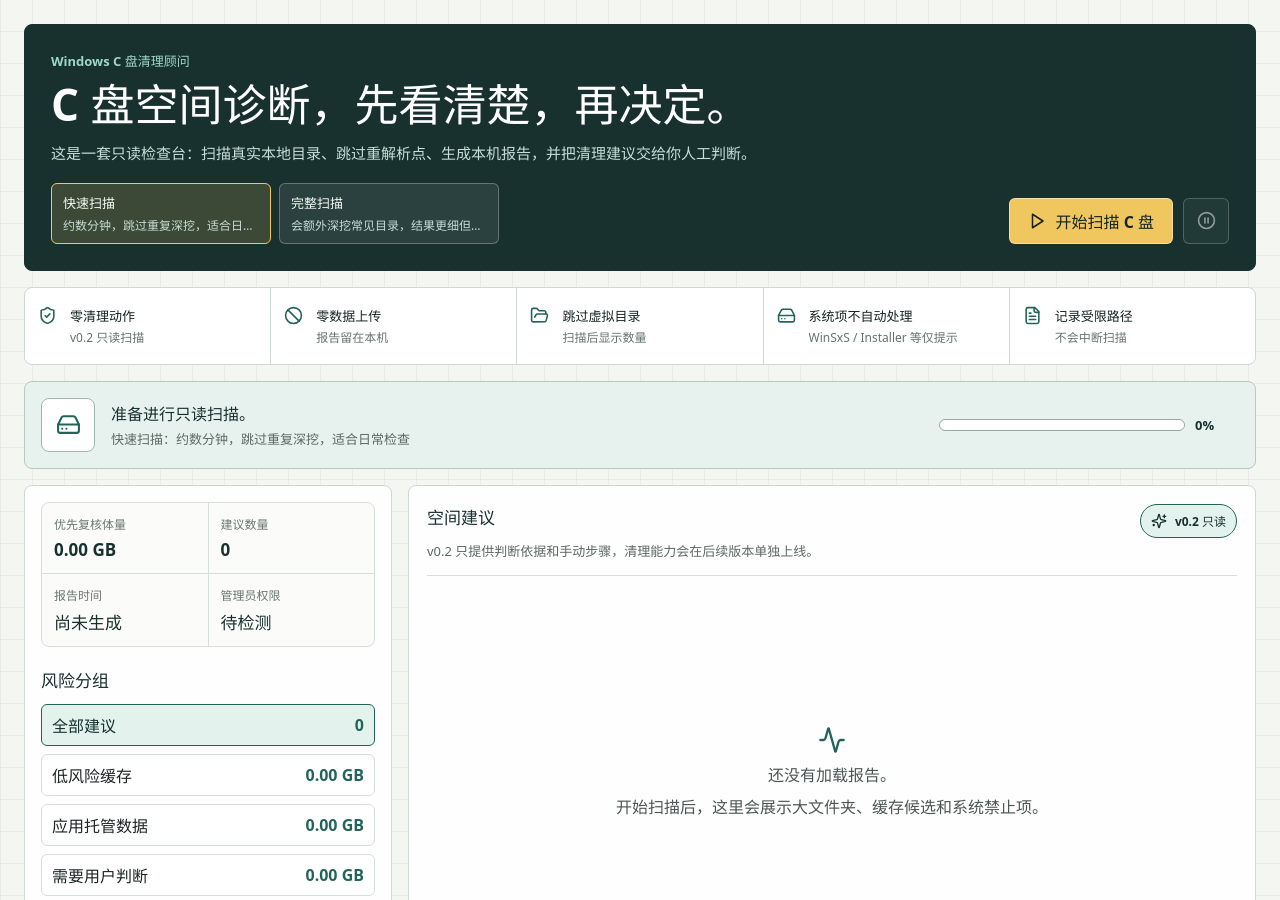
Scenario: App › applies only matching progress events for the active scan
Click the button "开始扫描 C 盘" at (1091, 221), box [1010, 198, 1173, 244]
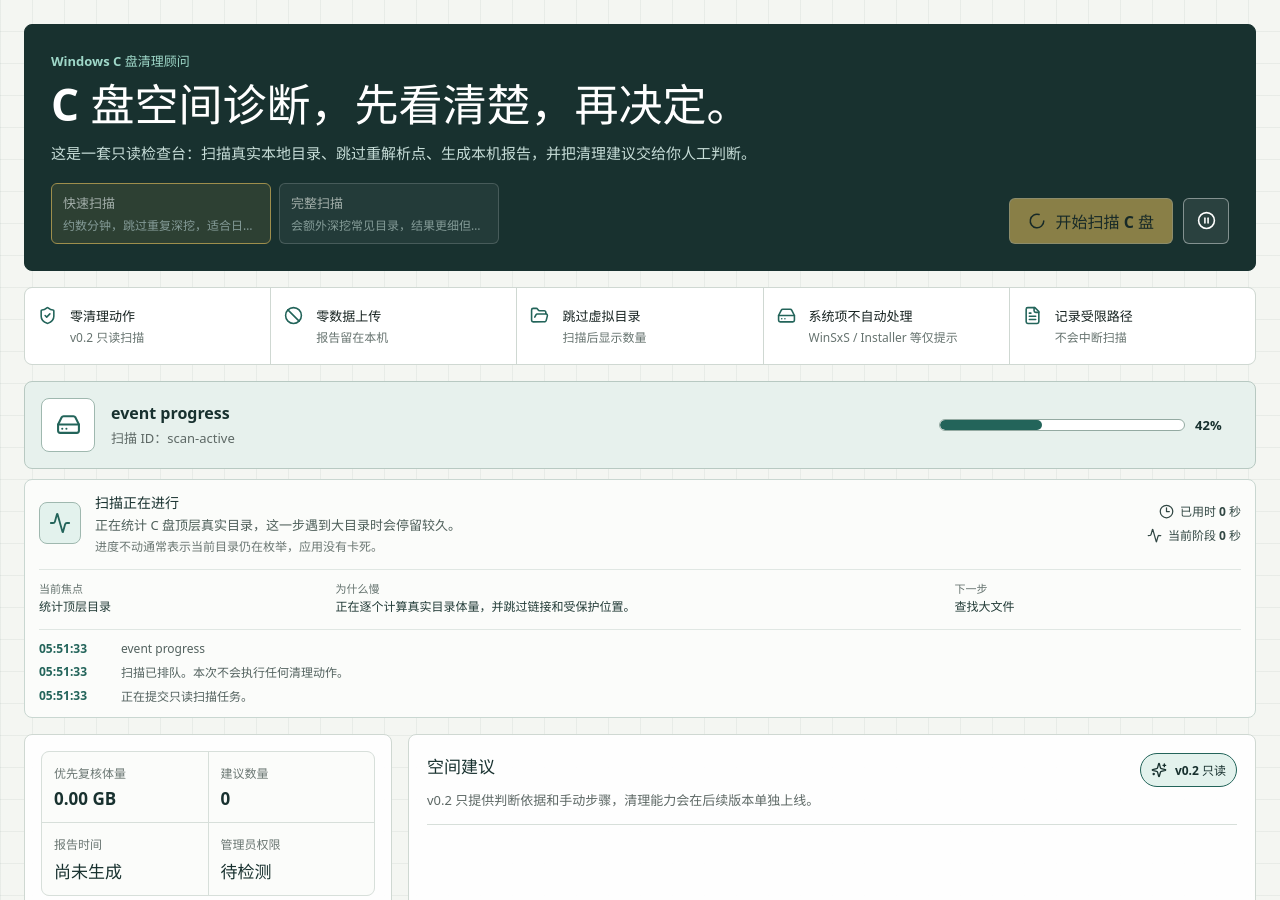
Now the text "42%" is shown, box [1195, 416, 1222, 434]
